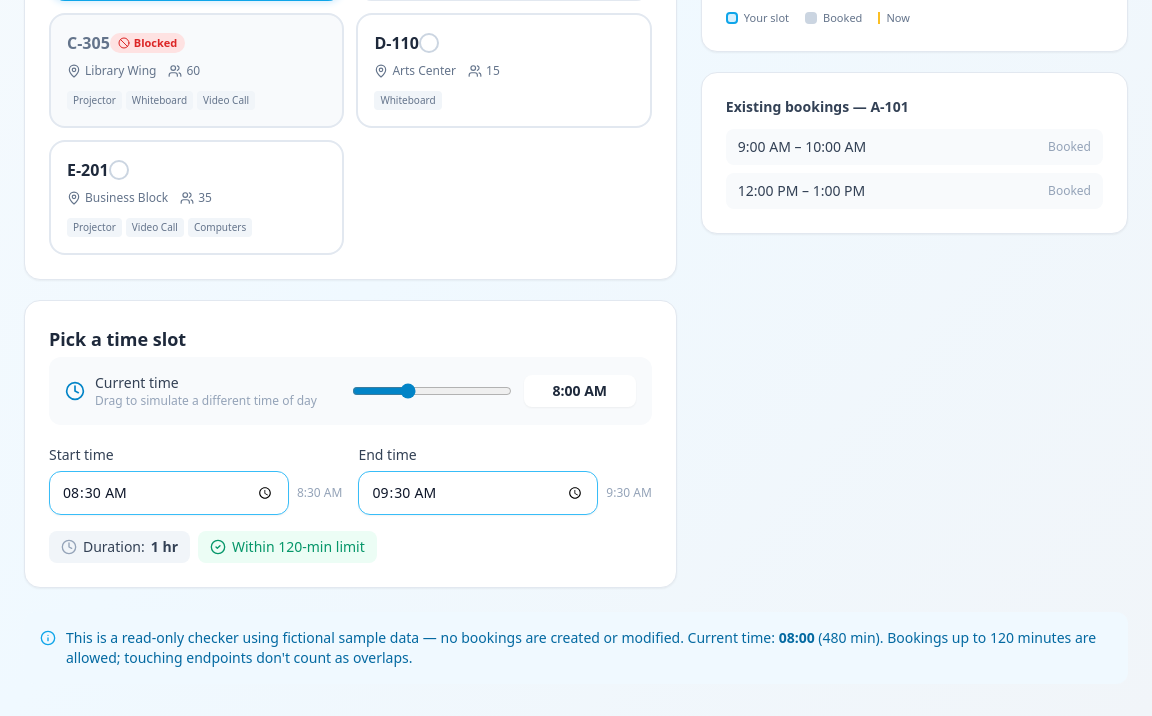
Scenario: RoomChecker field messages (UI) › shows duration message when slot is longer than 120 min
(page scrolled)
Replace the text in the time field labelled "Start time 8:30 AM" with "12:00" at (169, 493), box x1=49 y1=471 x2=289 y2=515
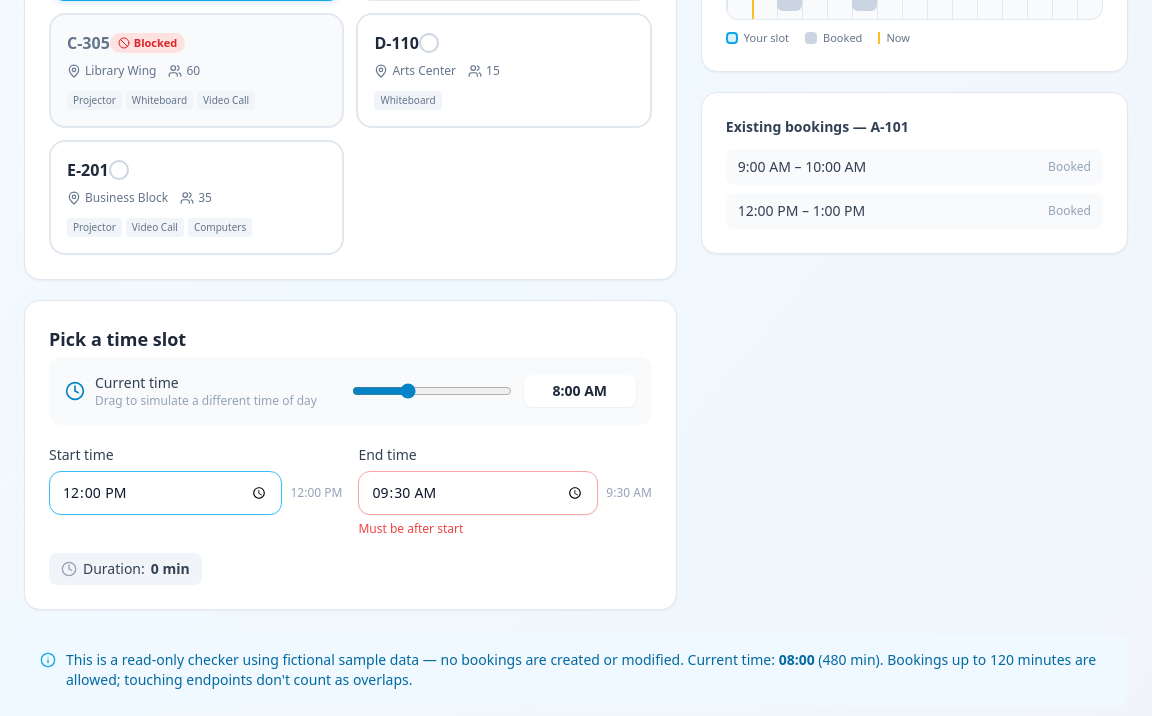
Replace the text in the time field labelled "End time 9:30 AM Must be after start" with "14:01" at (478, 493), box x1=358 y1=471 x2=598 y2=515
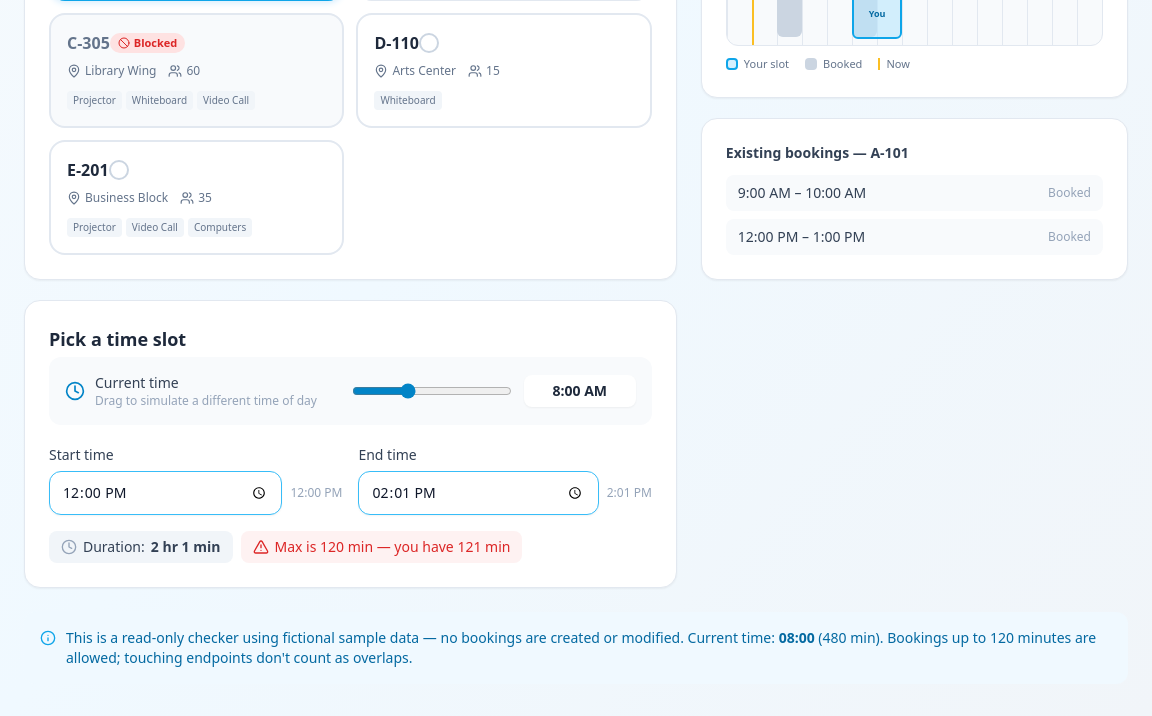
expect the text "Max is 120 min — you have 121 min" is shown: met, box x1=240 y1=531 x2=522 y2=563
